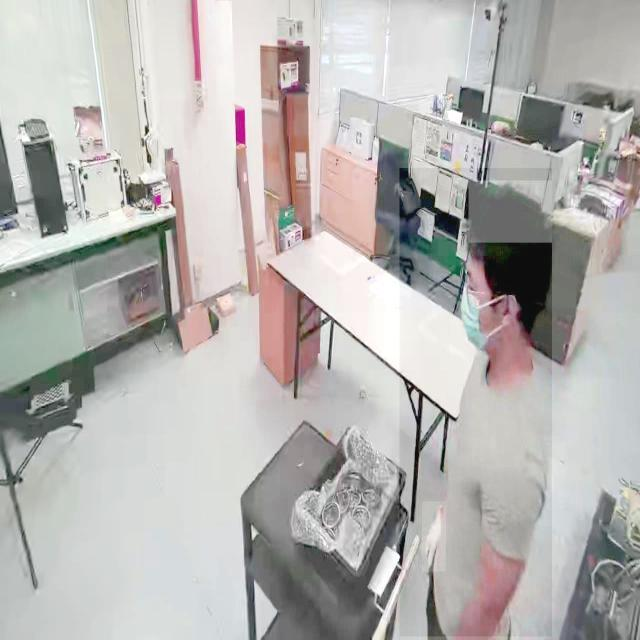face_mask: (451, 280, 493, 357)
hand_glove: (422, 502, 446, 572)
head_nohelmet: (468, 180, 552, 243)
person: (400, 168, 552, 637)
